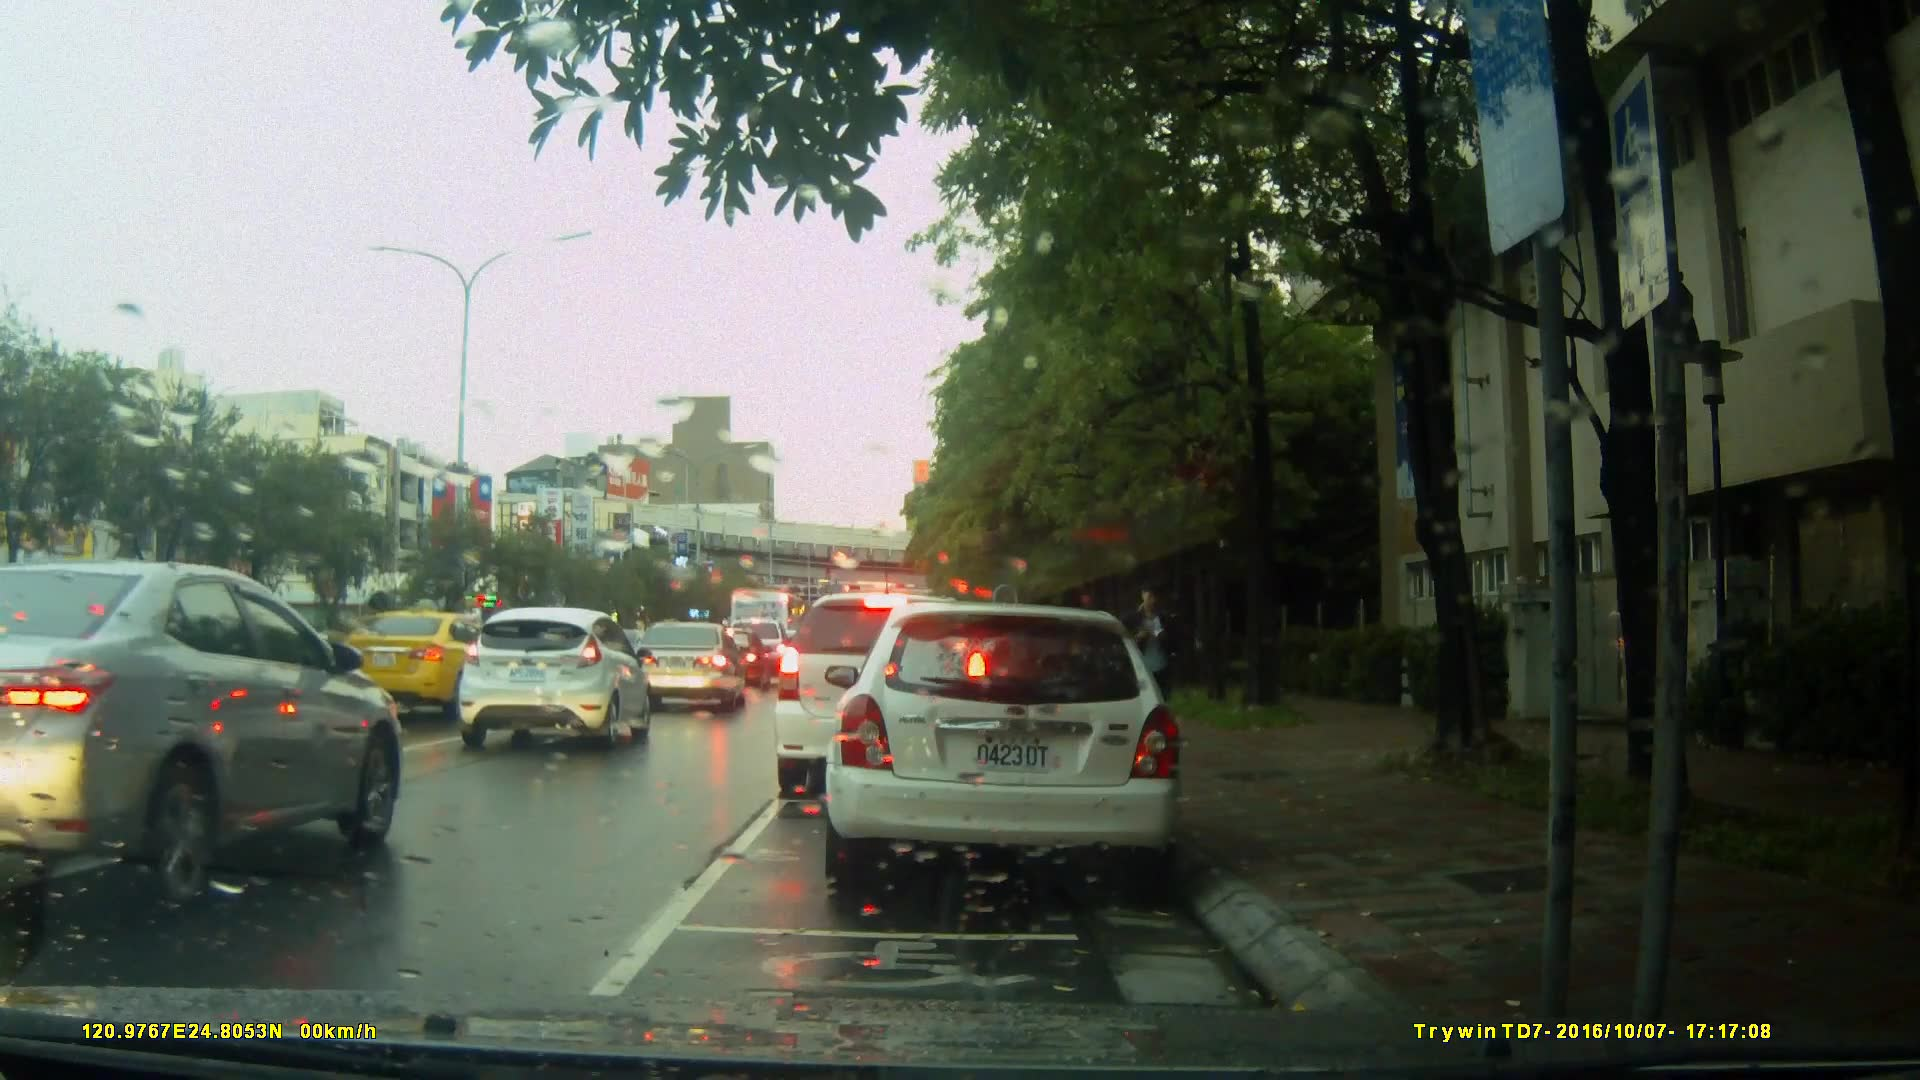vehicle: (1, 560, 407, 915), (835, 593, 1193, 898), (775, 589, 1026, 785), (454, 607, 655, 750), (338, 607, 512, 728), (630, 620, 749, 723), (717, 589, 818, 683), (702, 628, 770, 690)
